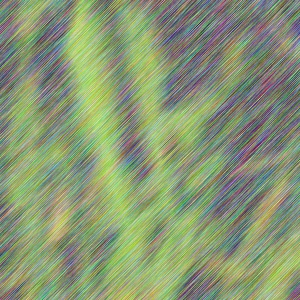Brown_Spot: (137, 135, 158, 158)
